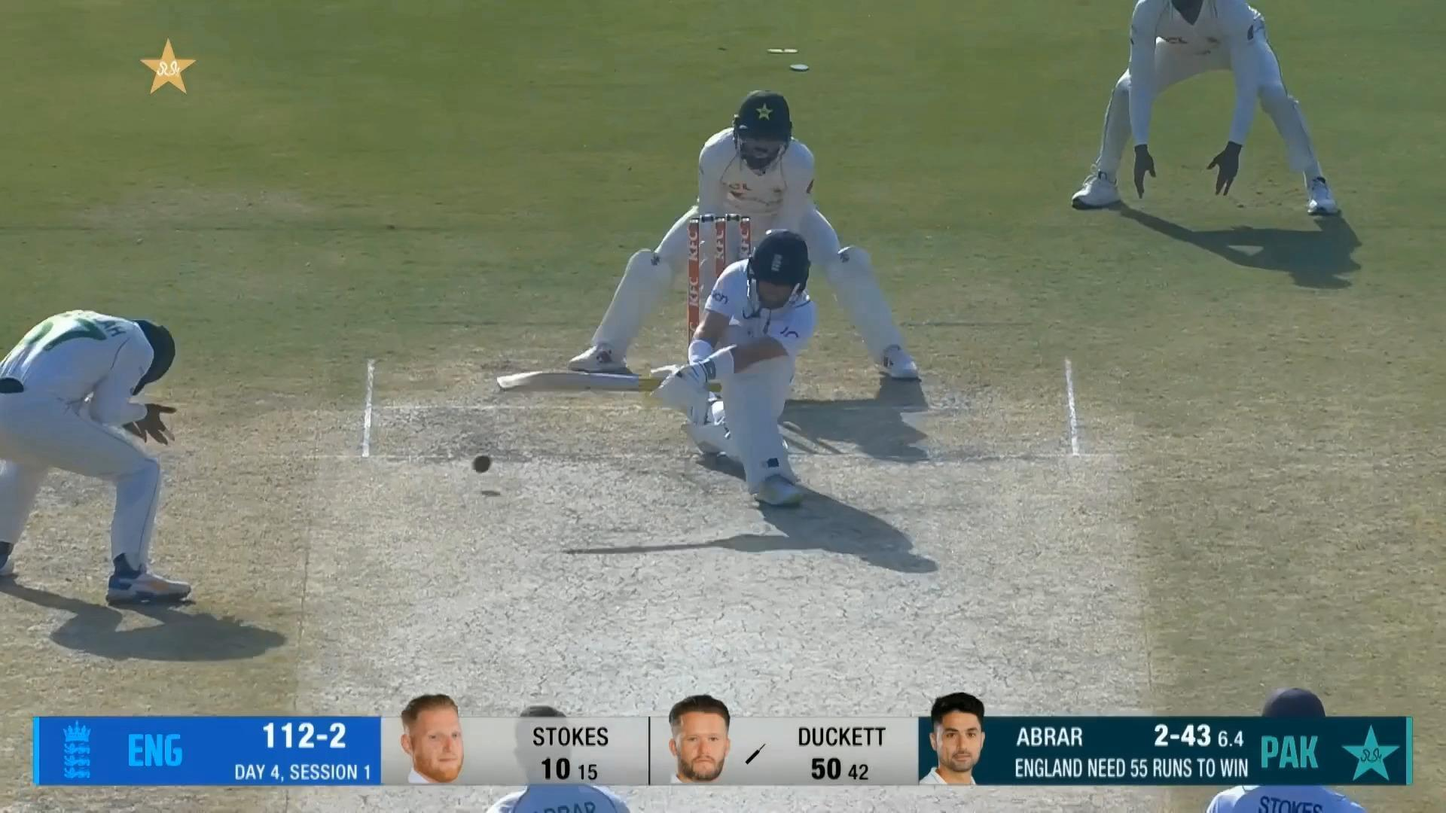BM 1: (494, 222, 821, 510)
BO: (483, 706, 635, 813)
